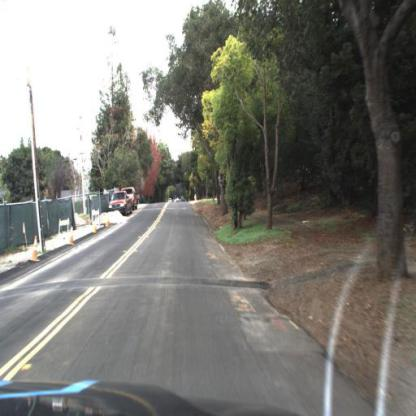car: (108, 190, 129, 217), (127, 186, 142, 211)
